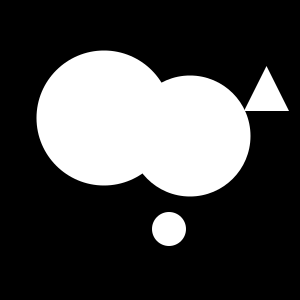circle: (79, 136, 117, 174)
rectangle: (36, 50, 172, 186), (130, 76, 250, 196), (152, 212, 186, 246)
triangle: (244, 66, 289, 111)
